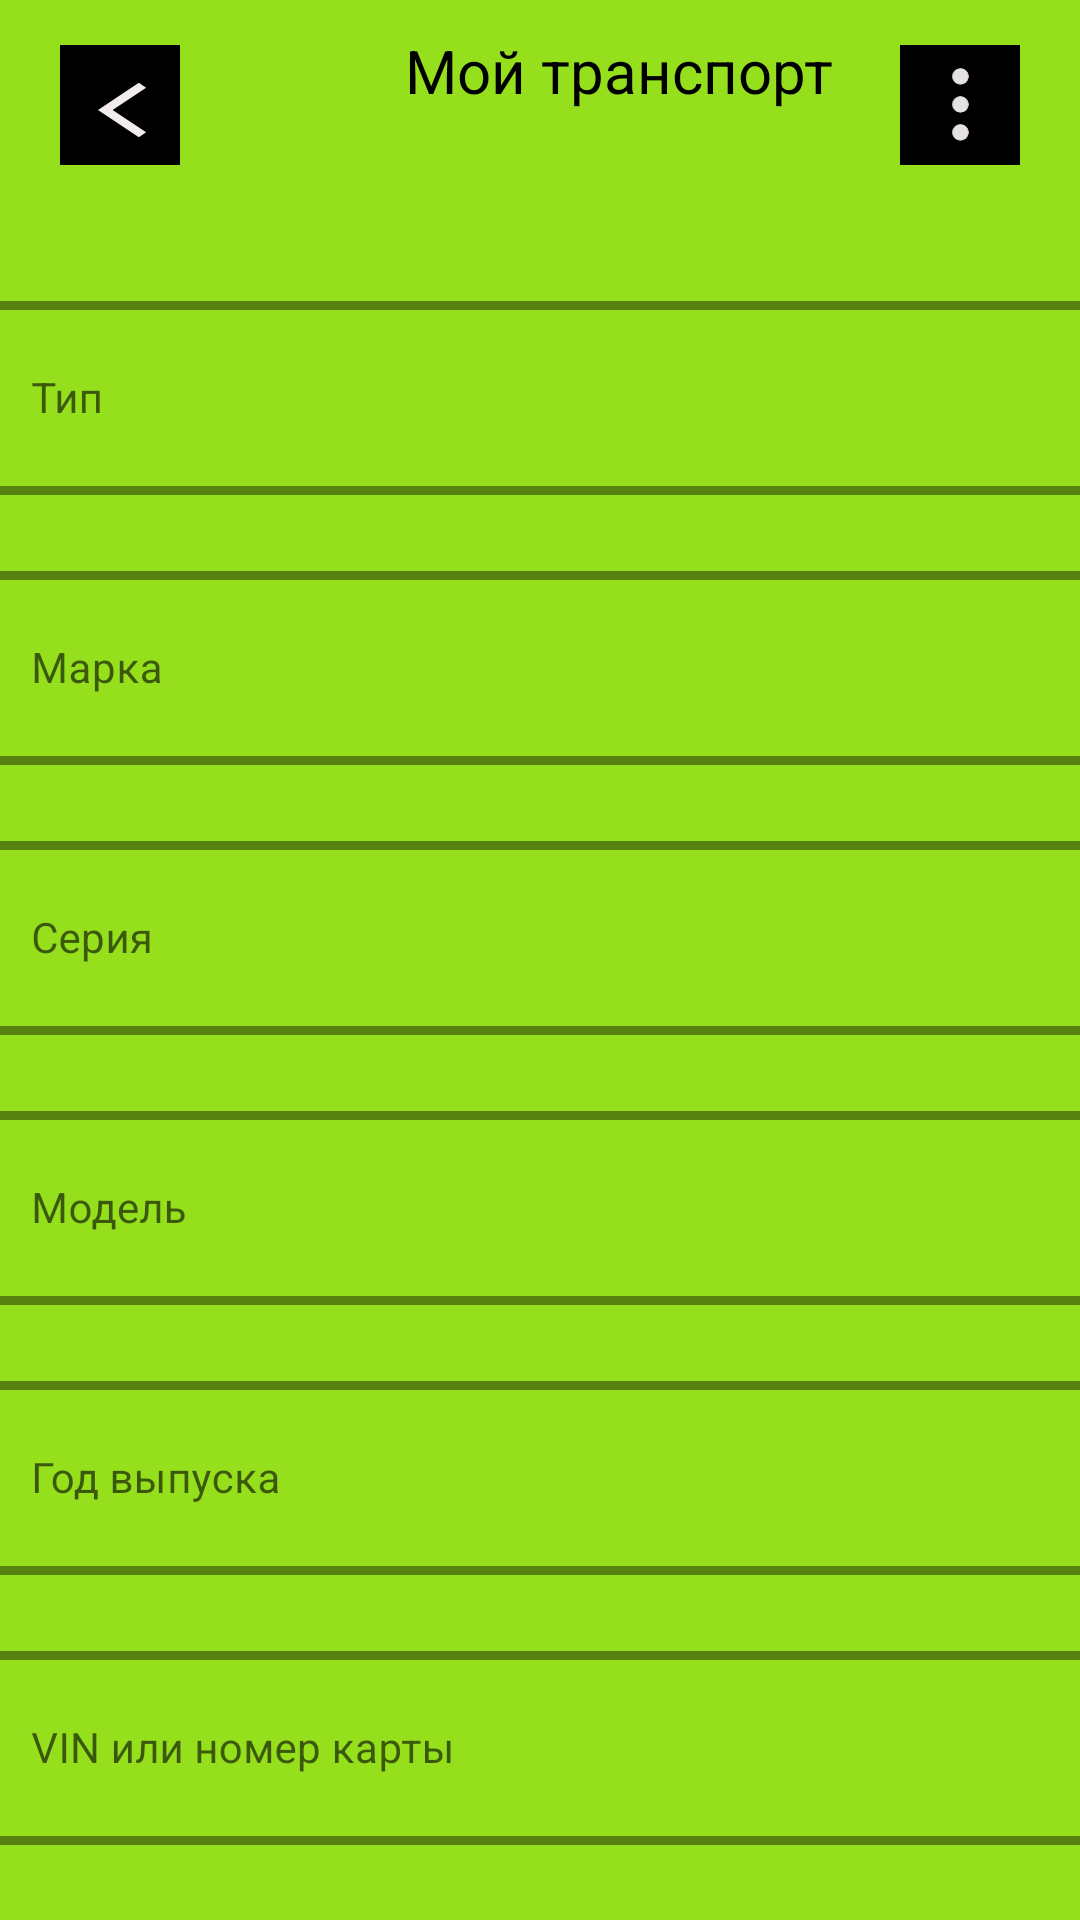

Icon click points for this 1080w x 1920h phone screenshot, format (x,y):
menu: (960,104)
